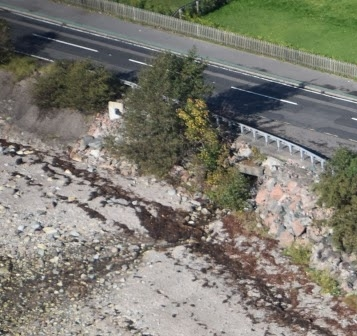white_in_green: (97, 91, 134, 129)
